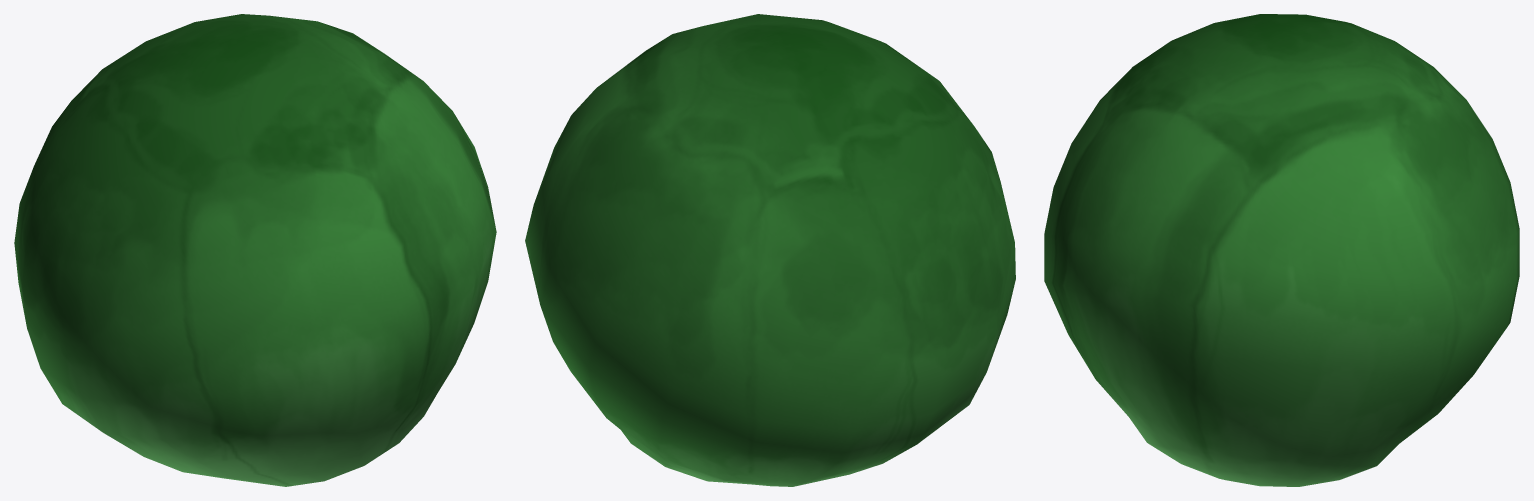
File: MSH_Lechuga.fbx
The picture shows the model from 3 angles, left to right: view 1: azimuth 30°, elevation 25°; view 2: azimuth 150°, elevation 25°; view 3: azimuth 270°, elevation 25°; orthographic projection.
Parts seen in each view (by area): view 1: MSH_Lechuga; view 2: MSH_Lechuga; view 3: MSH_Lechuga.
Boxes of the visible parts, x1,y1,x2,y2 form: MSH_Lechuga: (14,14,496,486); MSH_Lechuga: (525,14,1015,486); MSH_Lechuga: (1044,14,1519,486).
Bounding box in the file's own units: 19.37 × 19.32 × 19.17.
1 material, 1 textured.
